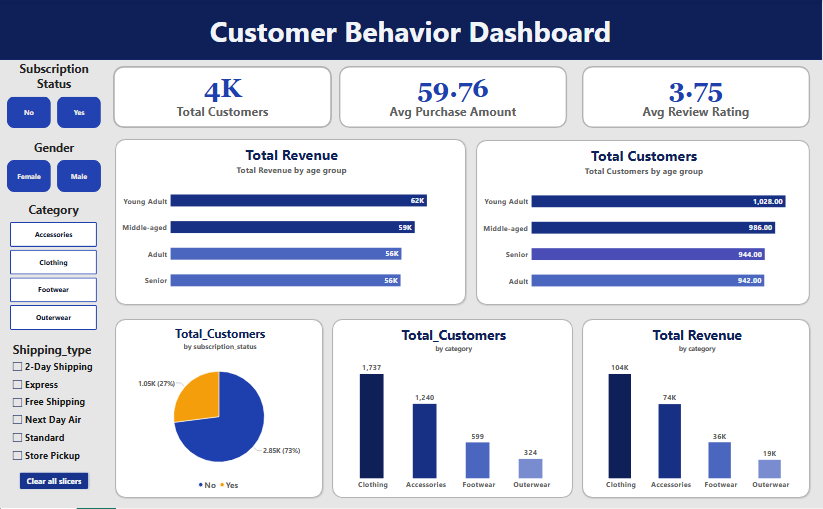

What the dashboard file says about the page in this screenshot:
{"tool":"powerbi","page":{"name":"Page 1","canvas":[2350,1450],"ordinal":0},"visuals":[{"type":"shape","title":"Cu","box":[0,0,2349.1,171.3],"z":0},{"type":"slicer","fields":{"Values":["customer.shipping_type"]},"box":[31.4,973.3,268.3,399.6],"z":1000},{"type":"advancedSlicerVisual","title":"Gender","fields":{"Values":["customer.gender"]},"box":[22.8,396.8,268.3,151.3],"z":2000},{"type":"advancedSlicerVisual","title":"Subscription Status","fields":{"Values":["customer.subscription_status"]},"box":[22.8,171.3,268.3,194.1],"z":3000},{"type":"advancedSlicerVisual","title":"Category","fields":{"Values":["customer.category"]},"box":[31.4,573.7,248.3,371.1],"z":4000},{"type":"cardVisual","title":"Total Customers","fields":{"Data":["_Measures.Total_Customers"]},"box":[325.4,188.4,625.1,177],"z":5000},{"type":"cardVisual","title":"Total Customers","fields":{"Data":["_Measures.Avg_Purchase_Amount"]},"box":[970.5,188.4,650.8,177],"z":6000},{"type":"cardVisual","title":"Total Customers","fields":{"Data":["_Measures.Avg_Rating"]},"box":[1664.1,188.4,650.8,177],"z":7000},{"type":"clusteredBarChart","title":"Total Revenue","fields":{"Category":["customer.age_group"],"Y":["_Measures.Total_Revenue"]},"box":[331.1,396.8,1001.9,473.8],"z":8000},{"type":"clusteredBarChart","title":"Total Customers","fields":{"Category":["customer.age_group"],"Y":["_Measures.Total_Customers"]},"box":[1361.5,399.6,953.3,471],"z":9000},{"type":"clusteredColumnChart","fields":{"Category":["customer.category"],"Y":["_Measures.Total Revenue"]},"box":[1664.1,910.5,650.8,510.9],"z":10000},{"type":"pieChart","fields":{"Category":["customer.subscription_status"],"Y":["_Measures.Total_Customers"]},"box":[331.1,910.5,593.7,510.9],"z":11000},{"type":"actionButton","box":[57.1,1347.2,200,50],"z":12000},{"type":"clusteredColumnChart","fields":{"Category":["customer.category"],"Y":["_Measures.Total_Customers"]},"box":[950.5,910.5,687.9,510.9],"z":13000}]}

Visuals, with their boxes in screenshot pixels (x1, y1, x2, y2), scaled from the page's 2350x1450 canvas onto the 823x509 screenshot:
"Cu" shape: 0,0,822,60
slicer - customer.shipping_type: 11,342,105,482
"Gender" advancedSlicerVisual: 8,139,102,192
"Subscription Status" advancedSlicerVisual: 8,60,102,128
"Category" advancedSlicerVisual: 11,201,98,332
"Total Customers" cardVisual: 114,66,333,128
"Total Customers" cardVisual: 340,66,568,128
"Total Customers" cardVisual: 583,66,811,128
"Total Revenue" clusteredBarChart: 116,139,467,306
"Total Customers" clusteredBarChart: 477,140,811,306
clusteredColumnChart - customer.category x _Measures.Total Revenue: 583,320,811,499
pieChart - customer.subscription_status x _Measures.Total_Customers: 116,320,324,499
actionButton: 20,473,90,490
clusteredColumnChart - customer.category x _Measures.Total_Customers: 333,320,574,499
